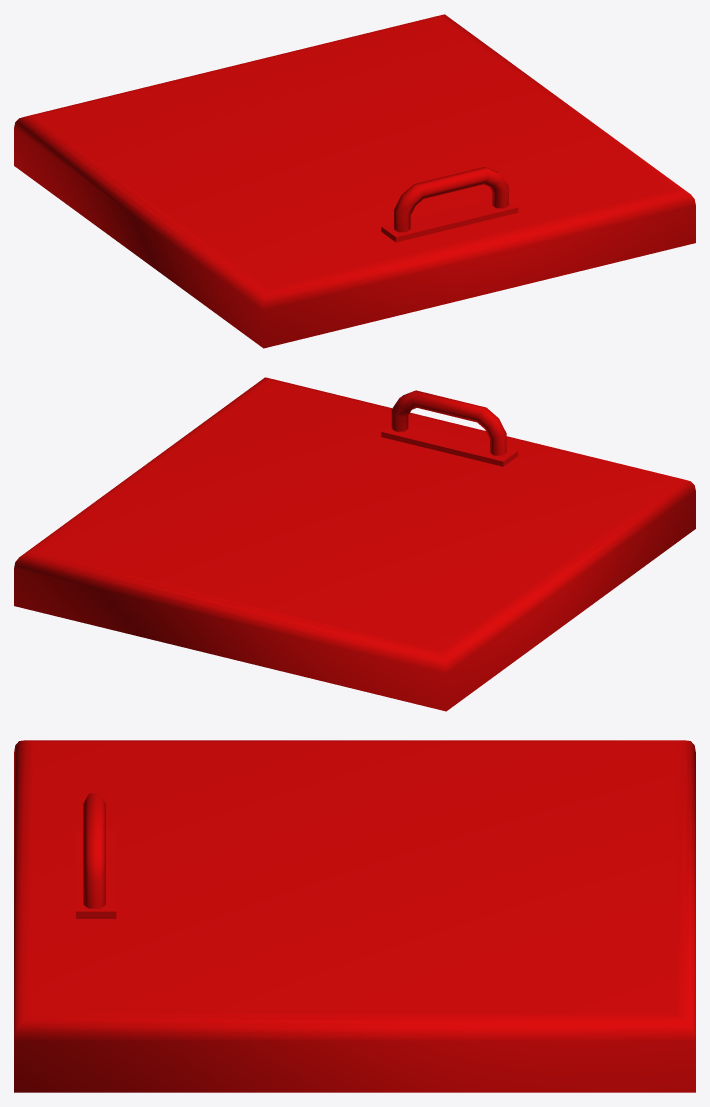
Rendered from Attic_Hatch_01_LP.glb.
3 views of the same model, one above another, from view 1: azimuth 30°, elevation 25°; view 2: azimuth 150°, elevation 25°; view 3: azimuth 270°, elevation 25° (orthographic). The views are drawn at different scales.
Parts seen in each view (by area): view 1: Attic_Hatch_01_LP; view 2: Attic_Hatch_01_LP; view 3: Attic_Hatch_01_LP.
Part boxes in pixels (<box>): Attic_Hatch_01_LP: <box>14,14,695,348</box>; Attic_Hatch_01_LP: <box>14,377,695,711</box>; Attic_Hatch_01_LP: <box>14,740,695,1092</box>.
Bounding box in the file's own units: 1.21 × 0.2584 × 1.21.
